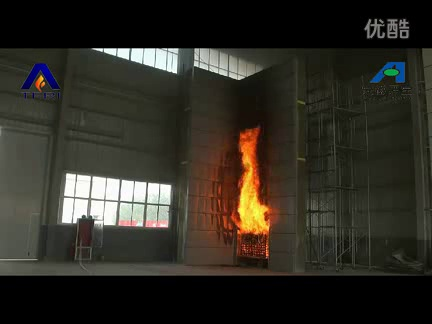fire: (234, 127, 271, 234)
